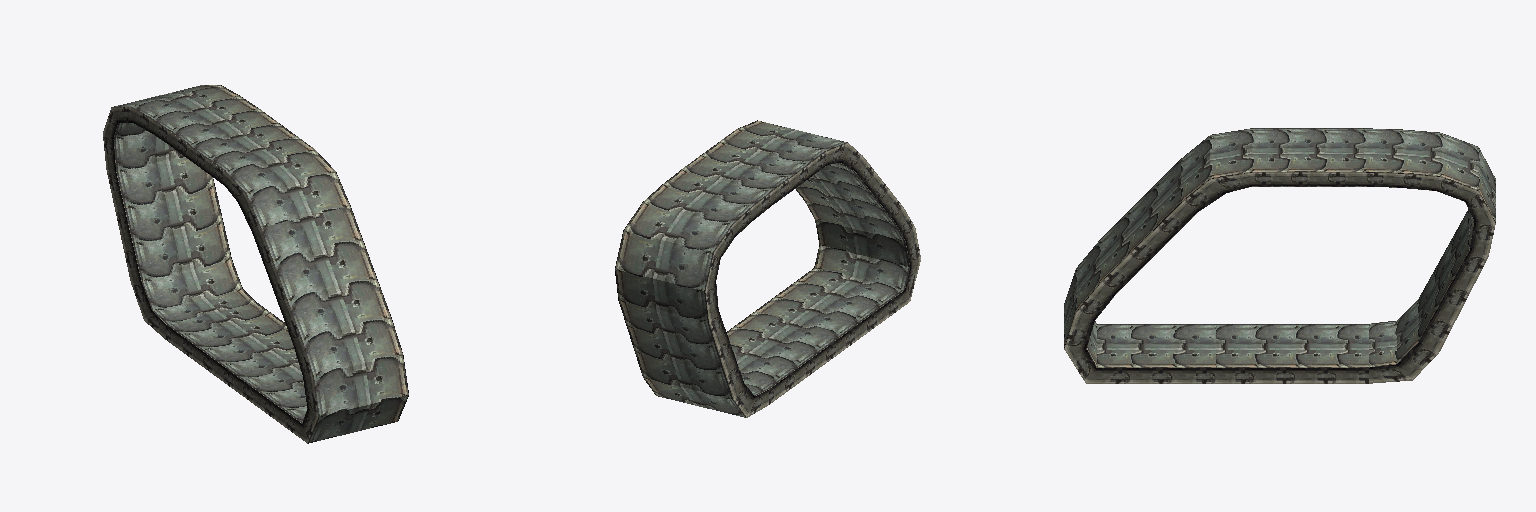
3 renders of one model, left to right at view 1: azimuth 30°, elevation 25°; view 2: azimuth 150°, elevation 25°; view 3: azimuth 270°, elevation 25°, orthographic.
Visible parts, largest first — view 1: L_TRACK; view 2: L_TRACK; view 3: L_TRACK.
Boxes of the visible parts, x1=… form: L_TRACK: x1=103, y1=85, x2=408, y2=443; L_TRACK: x1=615, y1=120, x2=920, y2=417; L_TRACK: x1=1064, y1=128, x2=1495, y2=383.
Size of the model in its own units: 1.37 by 3.06 by 5.66.
1 materials, 1 textured.